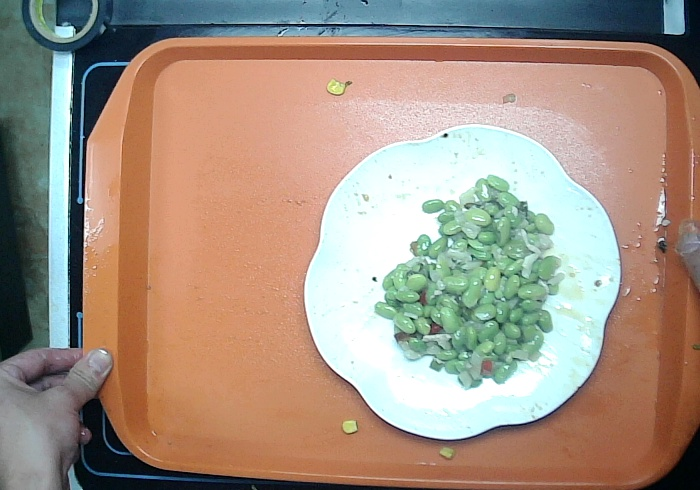HZYJPL-Bai_Se_Hua_Duo_Wan: (300, 115, 632, 446)
